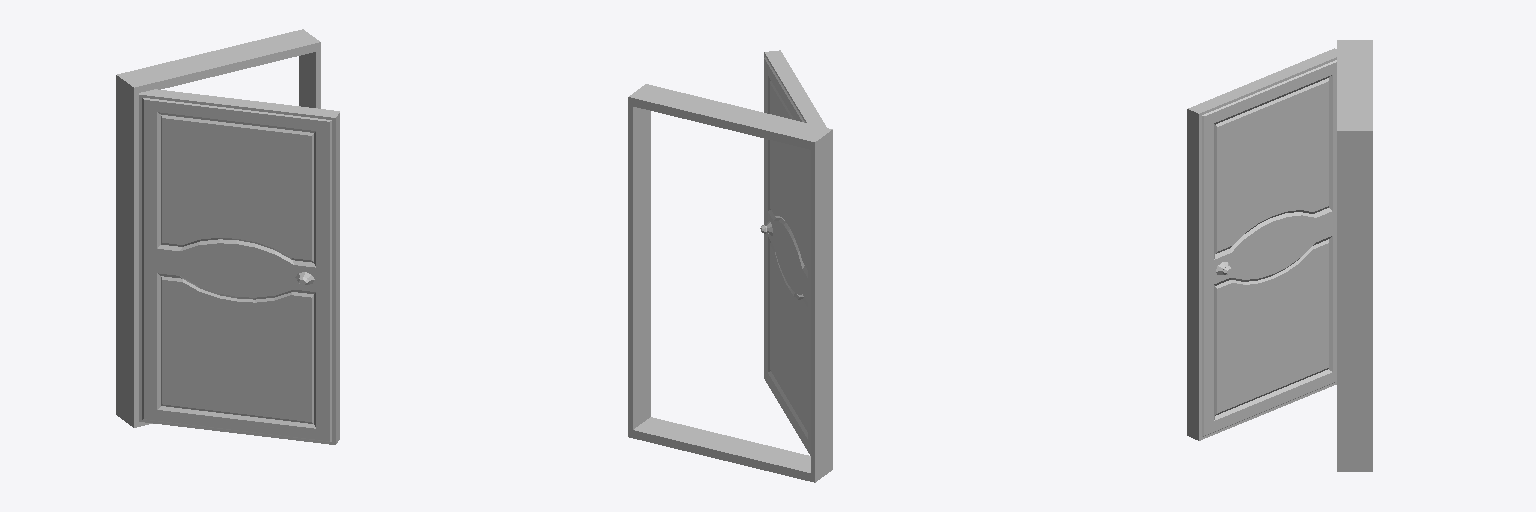
File: drzwiok_000021.obj
3 views of the same model, side by side, from view 1: azimuth 30°, elevation 25°; view 2: azimuth 150°, elevation 25°; view 3: azimuth 270°, elevation 25° (orthographic).
Visible parts, largest first — view 1: Door_4.001_Cube.001, Kostka; view 2: Kostka, Door_4.001_Cube.001; view 3: Door_4.001_Cube.001, Kostka.
Part boxes in pixels (left/top/right/bottom): Door_4.001_Cube.001: left=139, top=89, right=339, bottom=444; Kostka: left=116, top=29, right=320, bottom=427; Kostka: left=628, top=84, right=832, bottom=482; Door_4.001_Cube.001: left=760, top=50, right=826, bottom=455; Door_4.001_Cube.001: left=1187, top=48, right=1336, bottom=440; Kostka: left=1337, top=40, right=1372, bottom=471.
Size of the model in its own units: 0.7416 by 1.29 by 0.6362.